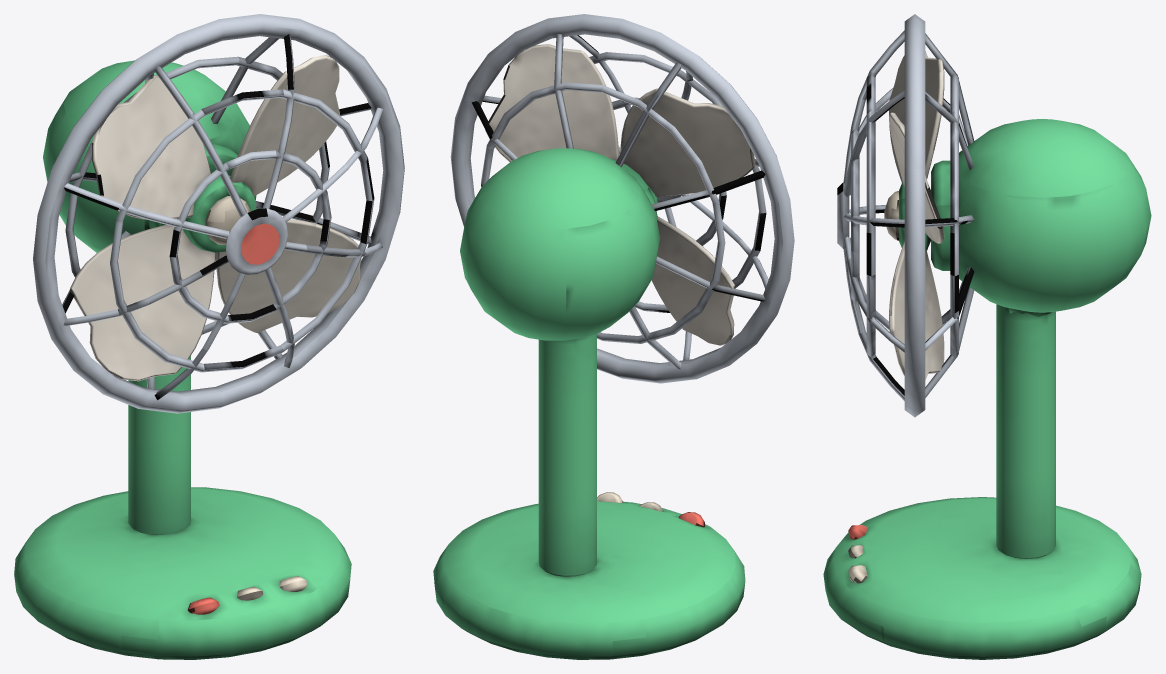
Rendered from desk_fan.glb.
3 renders of one model, left to right at view 1: azimuth 30°, elevation 25°; view 2: azimuth 150°, elevation 25°; view 3: azimuth 270°, elevation 25°, orthographic. The views are drawn at different scales.
Parts seen in each view (by area): view 1: desk_fan, Blades; view 2: desk_fan, Blades; view 3: desk_fan, Blades.
Part boxes in pixels (x1,y1,x2,y2): desk_fan: (14, 14, 404, 659); Blades: (70, 55, 361, 381); desk_fan: (433, 14, 794, 659); Blades: (485, 44, 755, 345); desk_fan: (823, 14, 1151, 659); Blades: (884, 51, 944, 379).
Size of the model in its own units: 0.203 by 0.3135 by 0.165.
5 materials, 5 textured.
